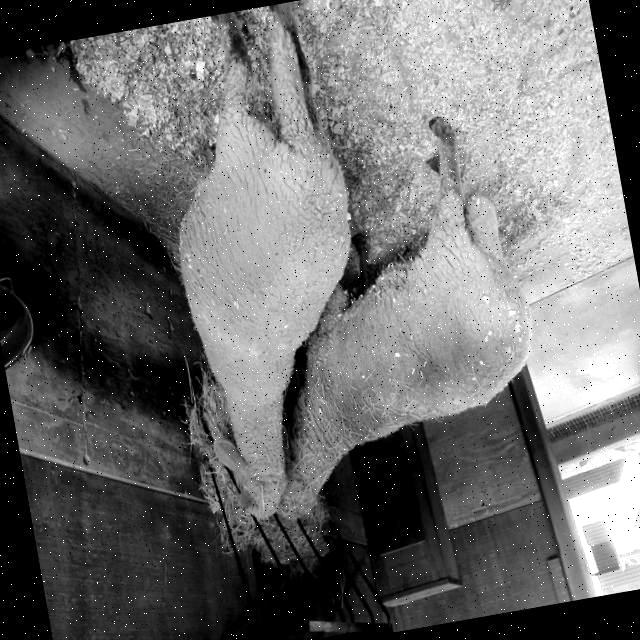sheep: (280, 120, 530, 511), (177, 5, 351, 516)
